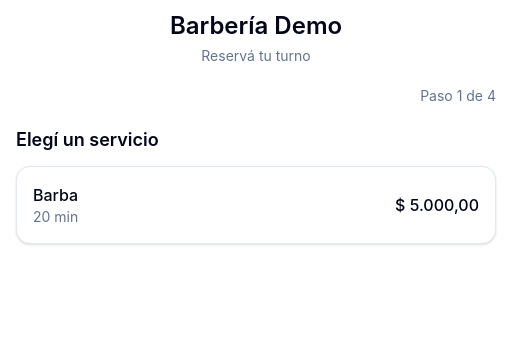
Scenario: public booking site › shows a message when the chosen day has no times, and when it is closed
The width and height of the screenshot is (529, 347).
What coordinates should you click on to do the following:
click the button "Barba 20 min $ 5.000,00"
I would click on:
 (56, 195)
Its box is [16, 166, 496, 244].
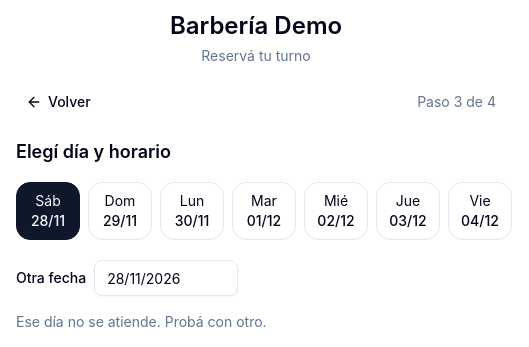
Now the text "Ese día no se atiende. Probá con otro." is shown, box [16, 313, 267, 330]
